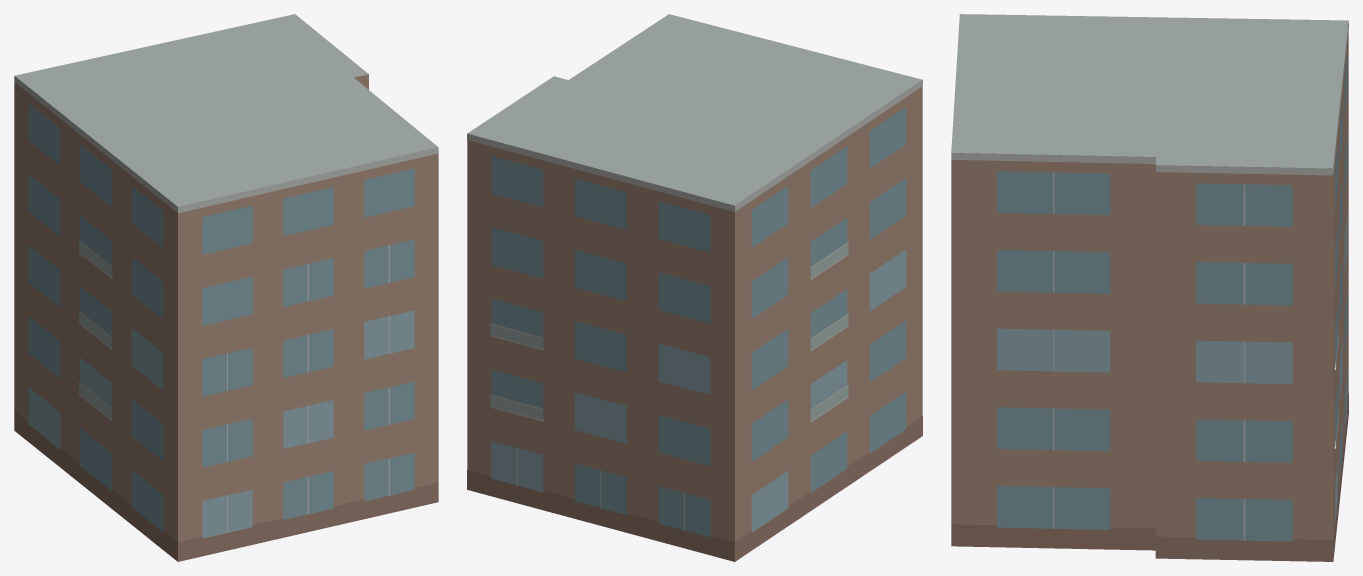
Rendered from survey-upis-32654380.glb.
3 renders of one model, left to right at view 1: azimuth 30°, elevation 25°; view 2: azimuth 150°, elevation 25°; view 3: azimuth 270°, elevation 25°, orthographic. The views are drawn at different scales.
Visible parts, largest first — view 1: survey-upis-32654380.tmp; view 2: survey-upis-32654380.tmp; view 3: survey-upis-32654380.tmp.
Part boxes in pixels (box(x1,y1,x2,y2)): survey-upis-32654380.tmp: box(14, 14, 438, 561); survey-upis-32654380.tmp: box(467, 14, 922, 561); survey-upis-32654380.tmp: box(951, 14, 1348, 561).
Bounding box in the file's own units: 11.55 × 13.7 × 12.56.
